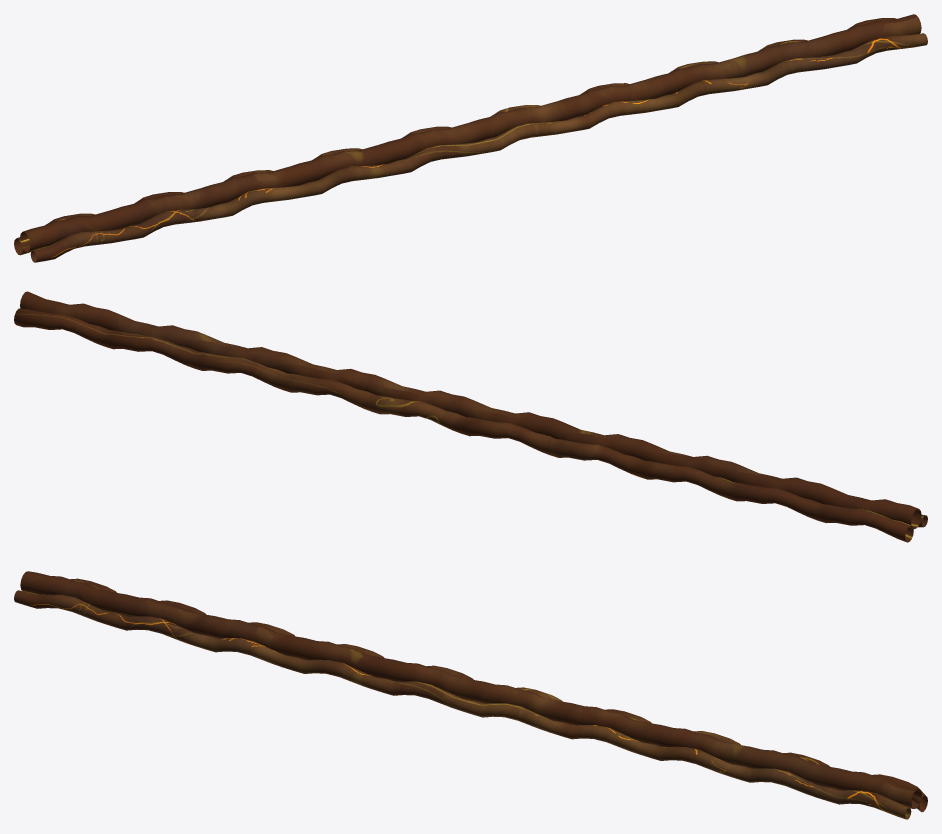
The picture shows the model from 3 angles, top to bottom: view 1: azimuth 30°, elevation 25°; view 2: azimuth 150°, elevation 25°; view 3: azimuth 330°, elevation 25°; orthographic projection.
Parts seen in each view (by area): view 1: Root; view 2: Root; view 3: Root.
Boxes of the visible parts, x1=… form: Root: x1=14, y1=14, x2=927, y2=262; Root: x1=14, y1=291, x2=927, y2=542; Root: x1=14, y1=571, x2=927, y2=819.
Bounding box in the file's own units: 20 × 0.6356 × 1.04.
1 material, 1 textured.
